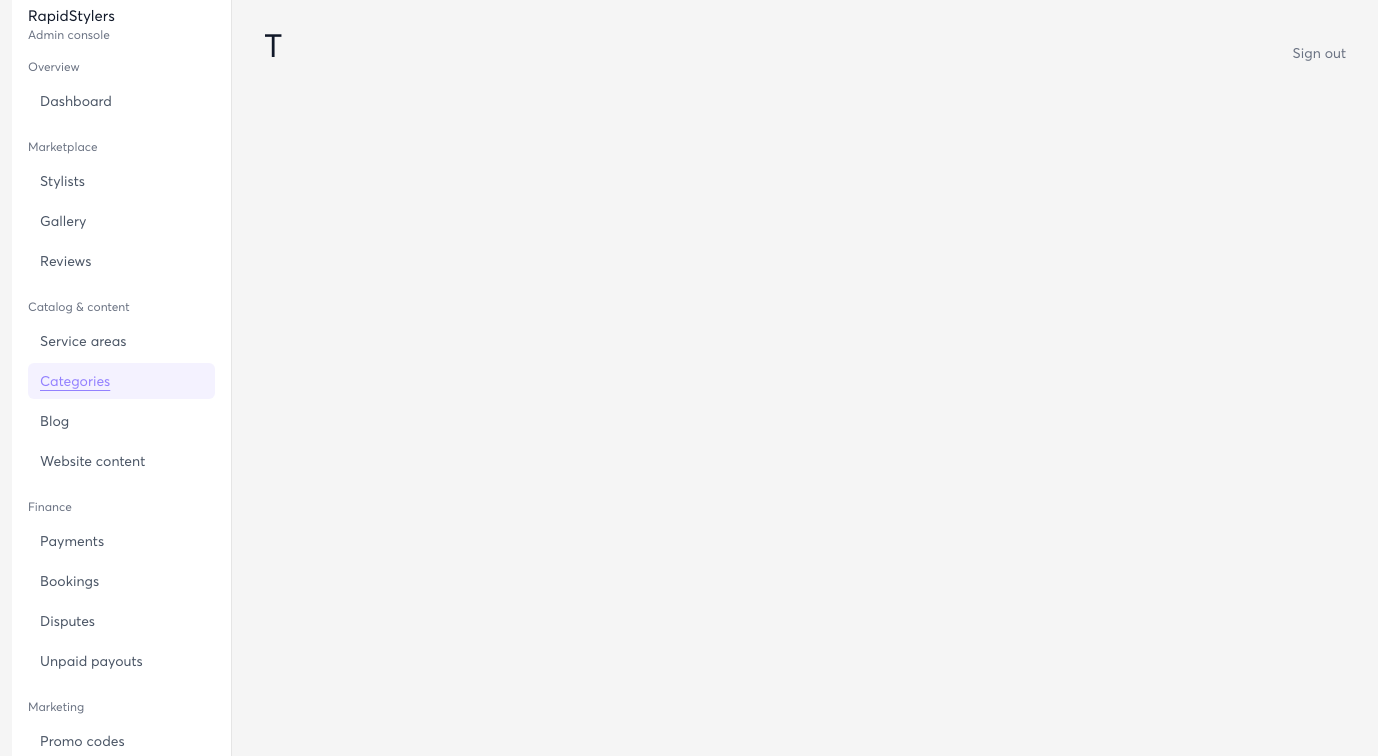
Test: admin logout removes all auth but keeps preferences and reaches admin login while revoke hangs
Click the button "Sign out" at (1319,53), box [1292,43,1346,63]
(page scrolled)
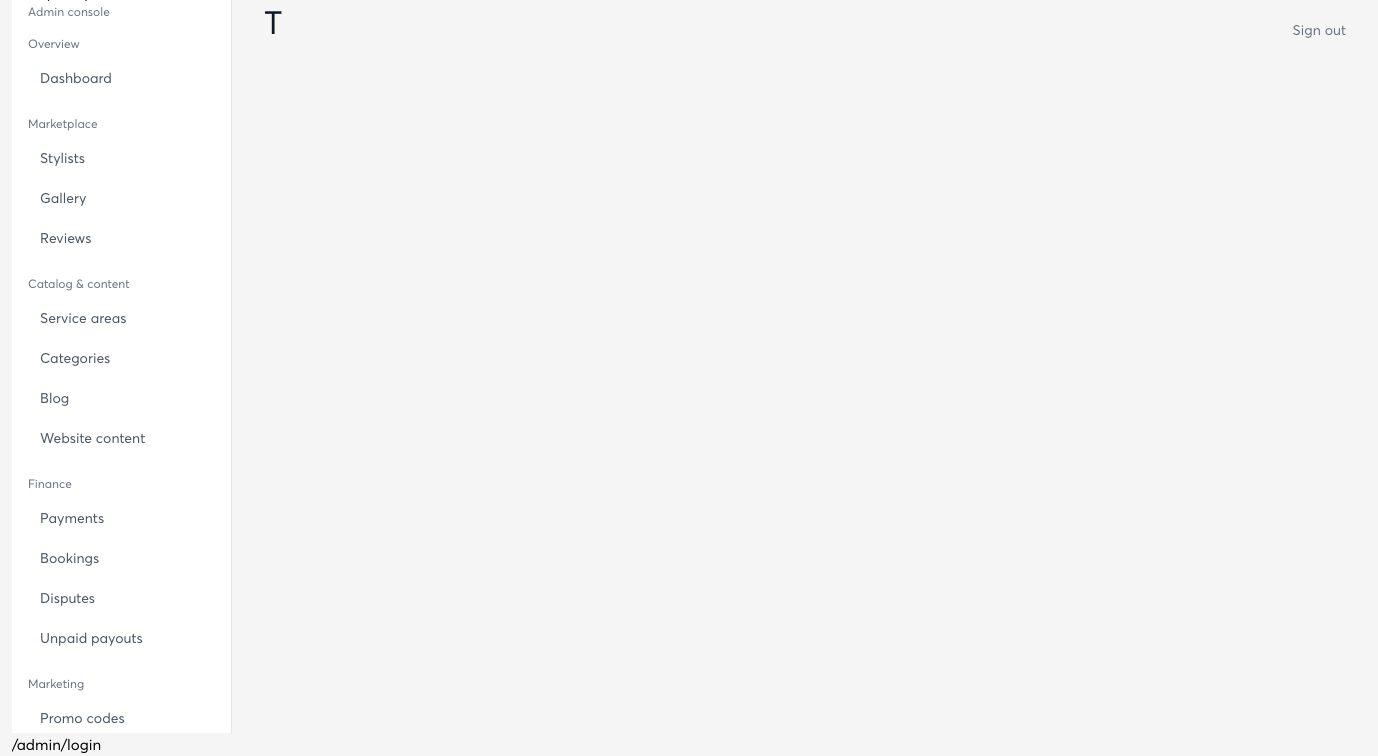
Expected: the text "/admin/login" is shown, [12,735,101,753]
